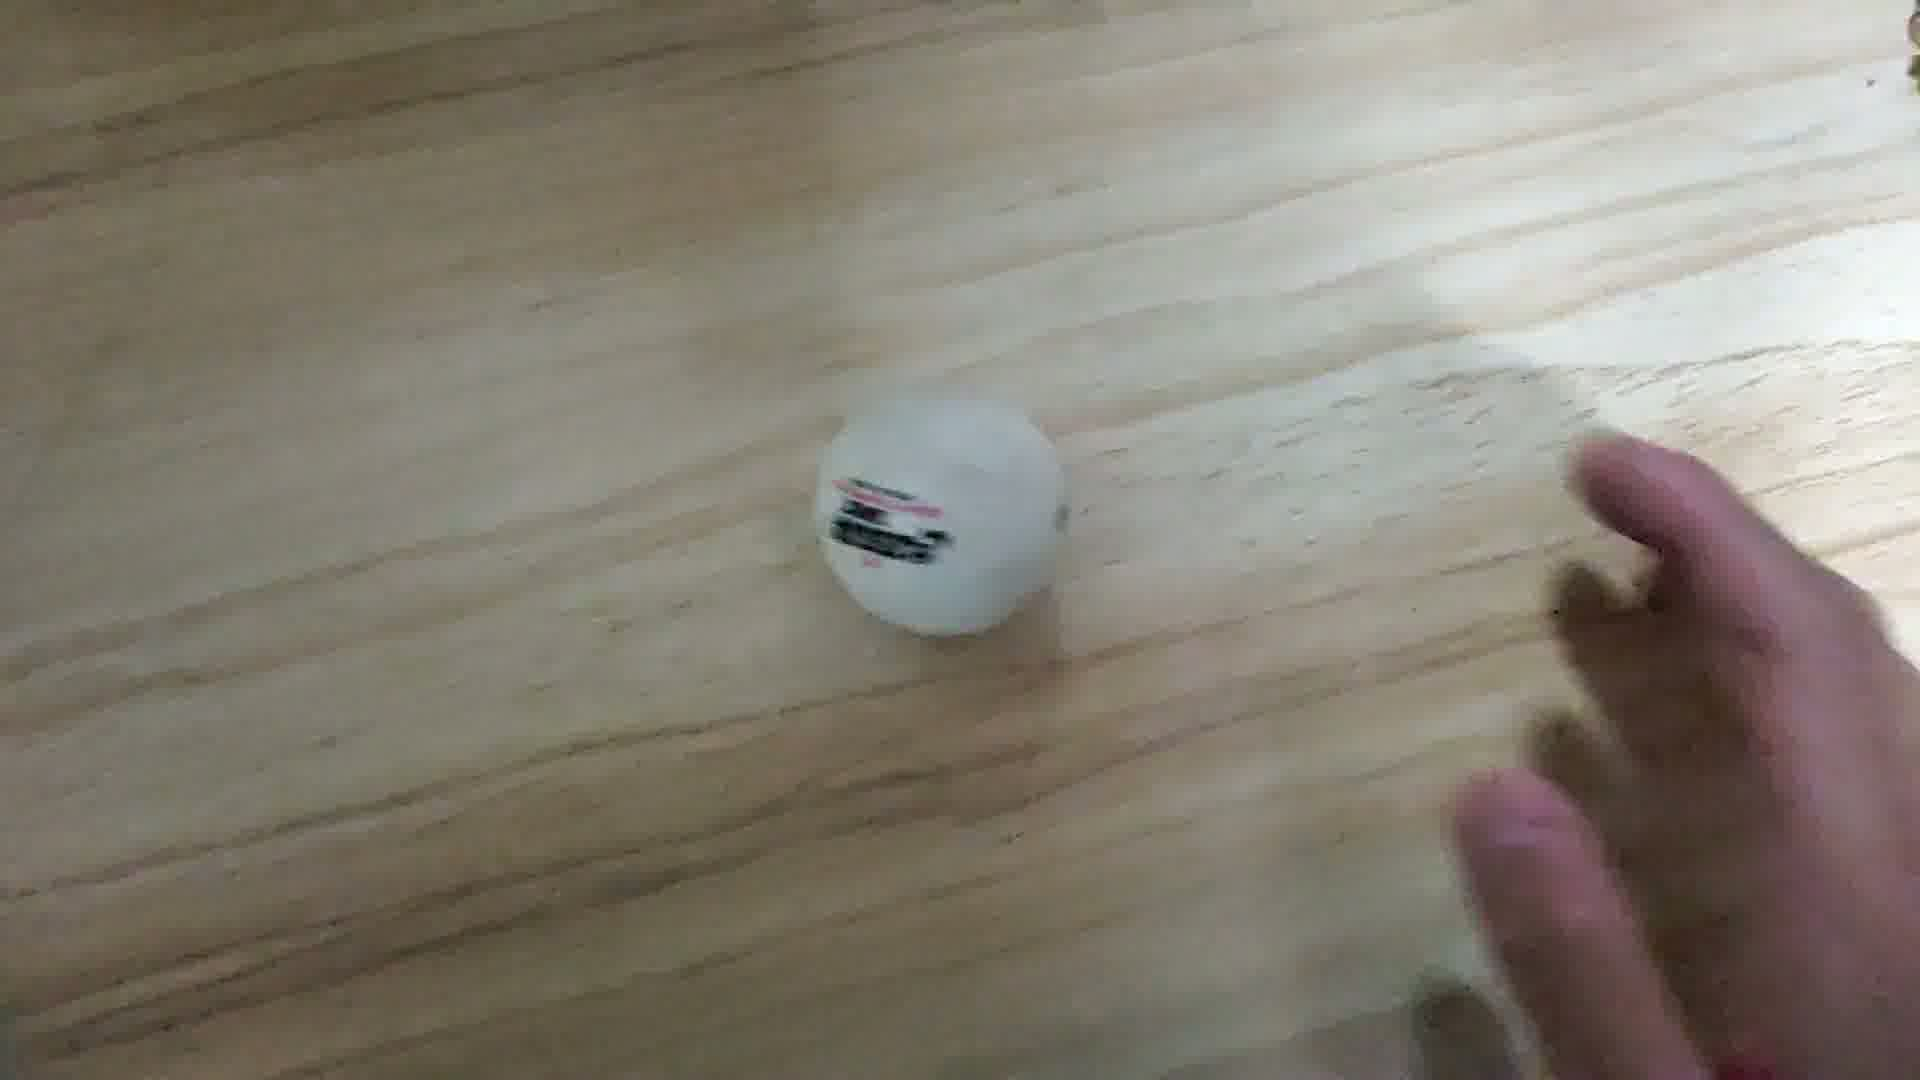Ball: (818, 396, 1077, 637)
